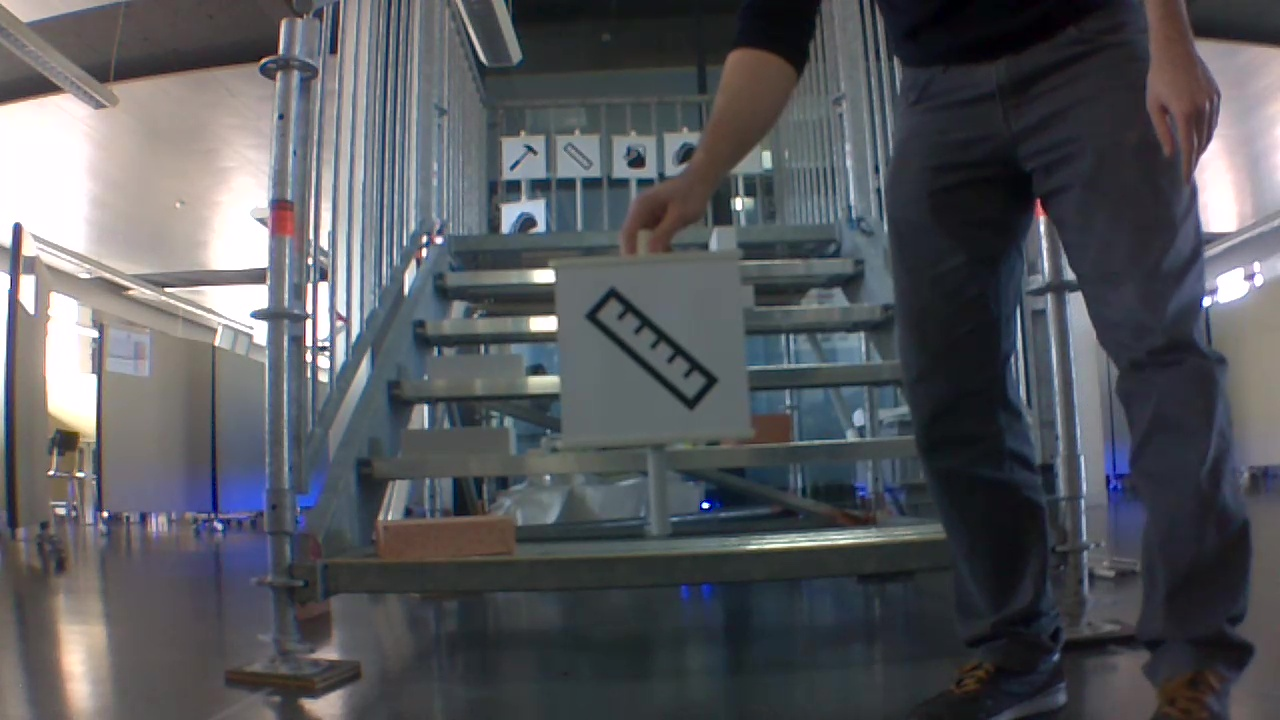brick: (372, 508, 516, 565), (395, 421, 521, 460), (423, 349, 532, 382)
bucket: (622, 144, 647, 172)
hammer: (508, 142, 539, 175)
ruler: (583, 283, 718, 419), (565, 141, 592, 171)
taco: (507, 208, 539, 237), (673, 142, 699, 162)
